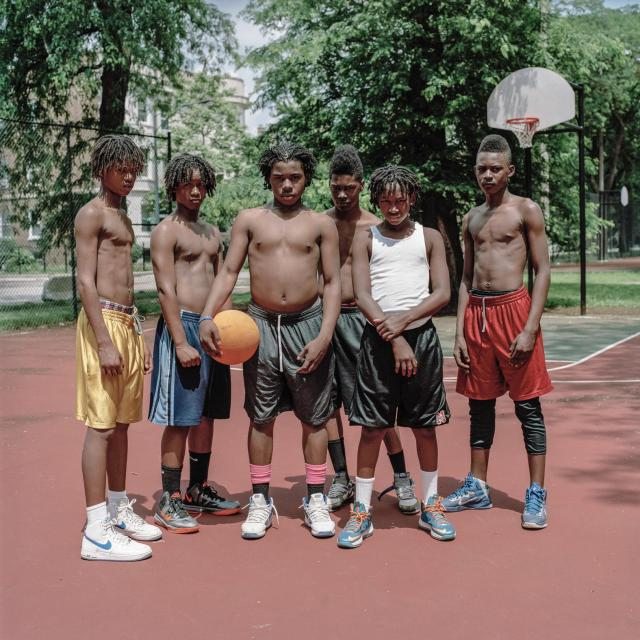body: (195, 139, 345, 542), (435, 128, 558, 537), (331, 160, 459, 552), (71, 131, 166, 566), (314, 144, 422, 516), (146, 150, 244, 537)
